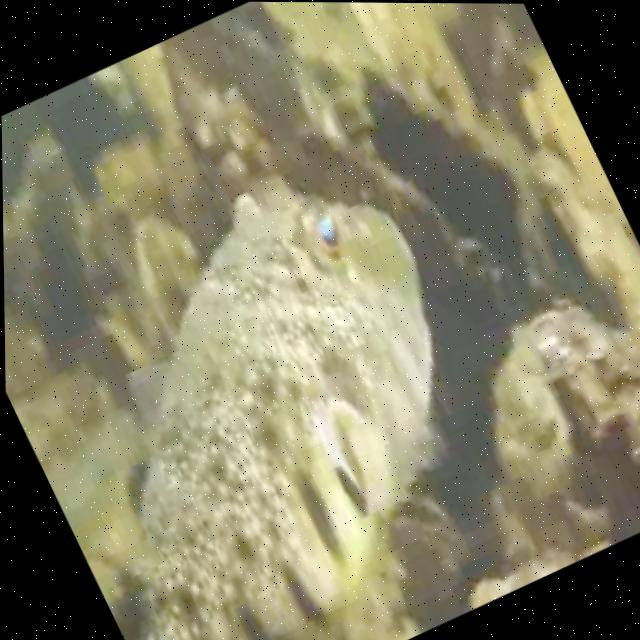Oyster-Closed: (390, 495, 468, 606)
Oyster-Indeterminate: (486, 309, 640, 576), (534, 144, 640, 329), (21, 133, 96, 360), (544, 67, 623, 213), (131, 210, 209, 343)
Oyster-Open: (294, 68, 560, 330)
